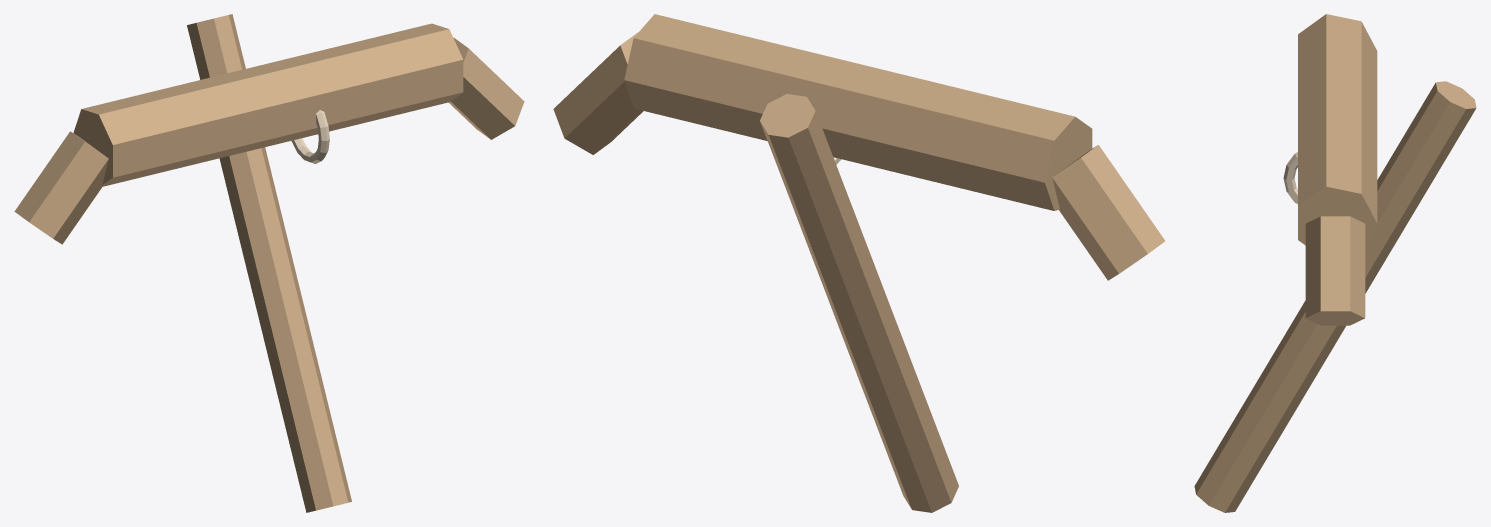
Rendered from pico_0.glb.
3 views of the same model, side by side, from view 1: azimuth 30°, elevation 25°; view 2: azimuth 150°, elevation 25°; view 3: azimuth 270°, elevation 25° (orthographic). The views are drawn at different scales.
Parts seen in each view (by area): view 1: cabeza, mango, punta_izq, punta_der, atadura; view 2: cabeza, mango, punta_izq, punta_der; view 3: mango, cabeza, punta_der, atadura.
Part boxes in pixels (<box>): cabeza: <box>73,23,463,186</box>; mango: <box>187,14,351,512</box>; punta_izq: <box>14,131,108,244</box>; punta_der: <box>448,38,524,139</box>; atadura: <box>291,110,329,163</box>; cabeza: <box>624,14,1092,210</box>; mango: <box>760,94,958,512</box>; punta_izq: <box>1052,145,1165,280</box>; punta_der: <box>553,32,643,154</box>; mango: <box>1194,81,1476,512</box>; cabeza: <box>1298,14,1377,245</box>; punta_der: <box>1305,216,1365,325</box>; atadura: <box>1283,152,1297,204</box>.
Size of the model in its own units: 0.9 by 0.7292 by 0.4398.
